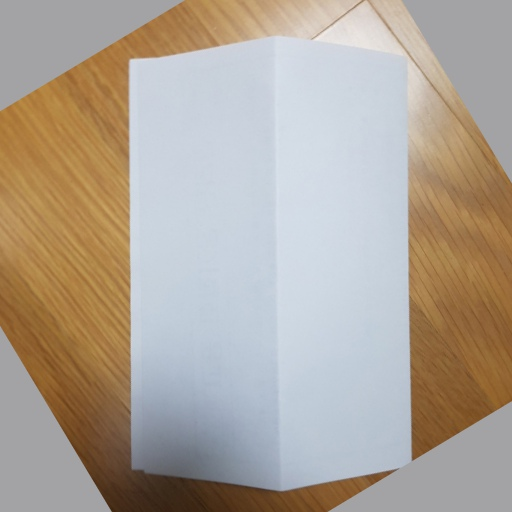Paper_3: (120, 30, 424, 496)
